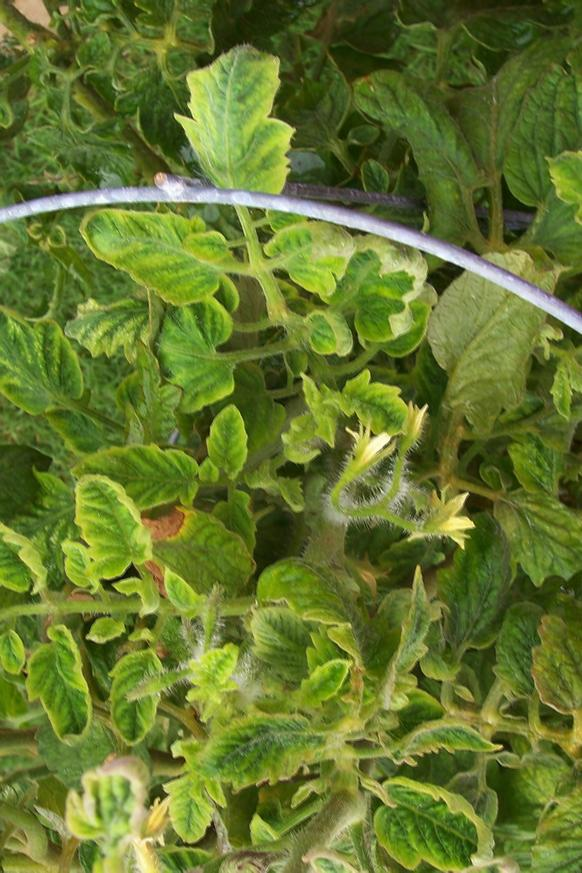Tomato leaf yellow virus: (177, 35, 296, 232), (175, 706, 357, 806), (78, 210, 238, 310), (57, 469, 165, 606), (371, 776, 505, 873), (250, 596, 357, 694), (38, 445, 207, 507), (250, 210, 362, 295), (29, 620, 98, 750), (162, 745, 222, 853), (110, 645, 165, 751), (200, 400, 257, 501), (320, 379, 412, 441), (0, 489, 48, 598), (539, 147, 582, 256)
